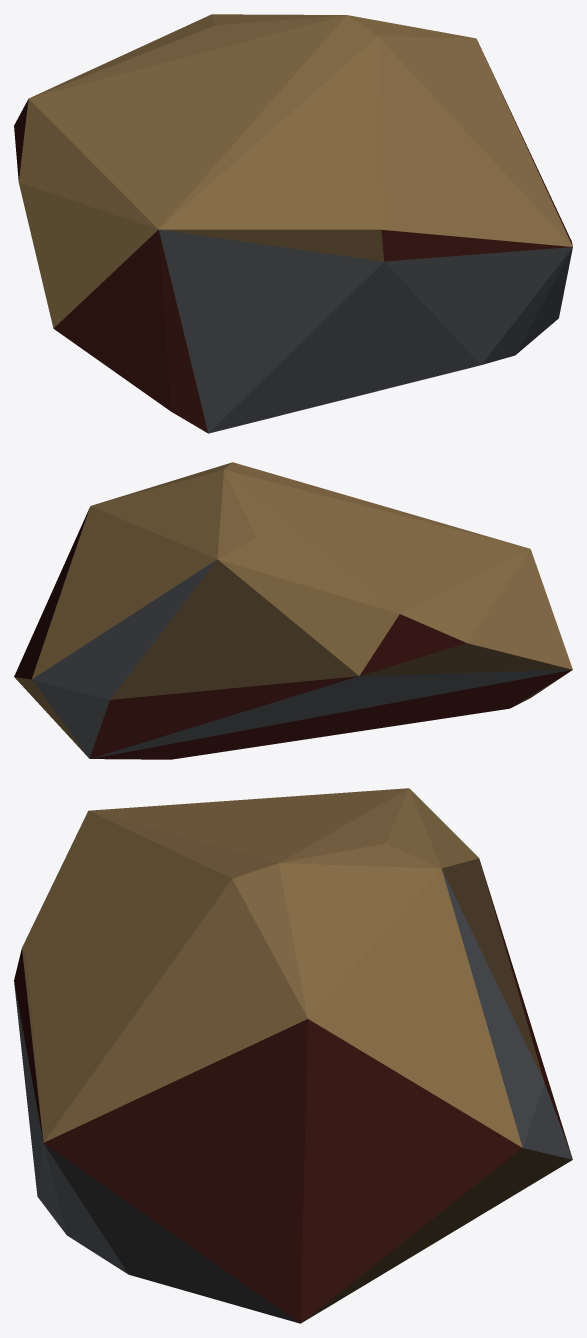
File: scablands_rock_scab.glb
3 views of the same model, one above another, from view 1: azimuth 30°, elevation 25°; view 2: azimuth 150°, elevation 25°; view 3: azimuth 270°, elevation 25° (orthographic). The views are drawn at different scales.
Parts seen in each view (by area): view 1: scablands_rock_scab; view 2: scablands_rock_scab; view 3: scablands_rock_scab.
Part boxes in pixels (x1,y1,x2,y2): scablands_rock_scab: (14,14,572,433); scablands_rock_scab: (14,462,572,759); scablands_rock_scab: (14,788,572,1323).
Size of the model in its own units: 1.87 by 0.8896 by 1.36.
